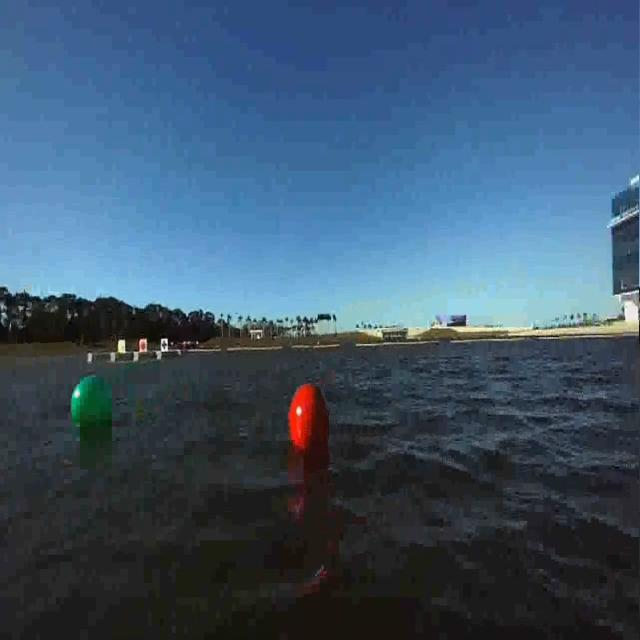green-buoy: (68, 374, 112, 436)
red-buoy: (288, 383, 330, 456)
